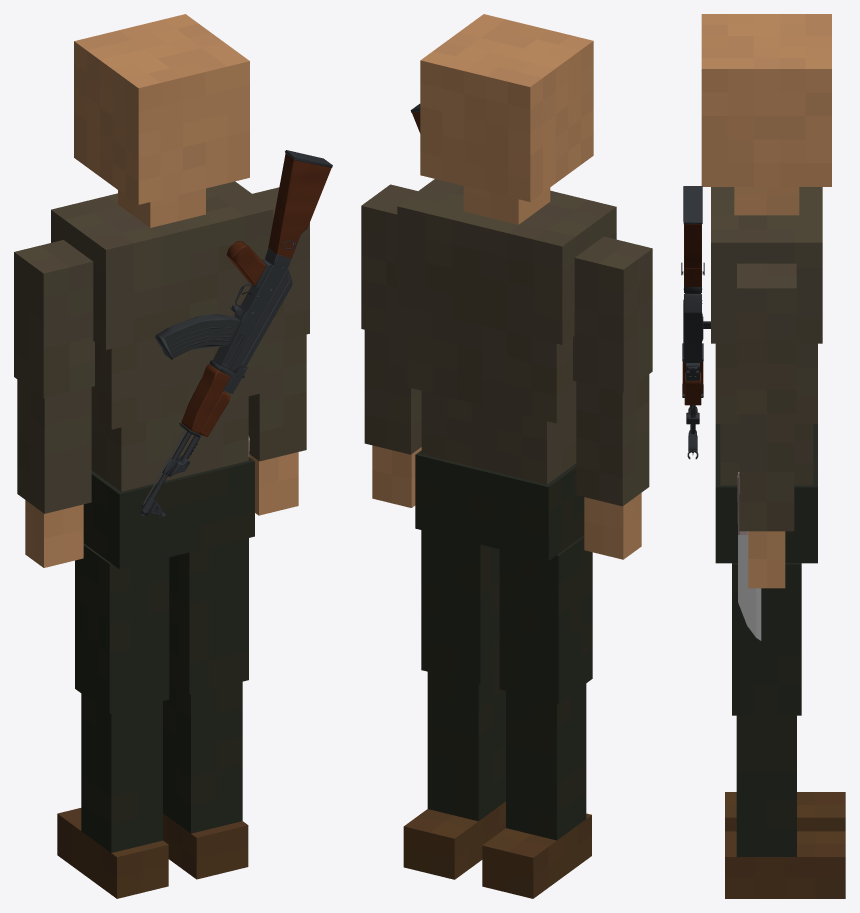
The model's file is npc_militant.glb.
3 renders of one model, left to right at view 1: azimuth 30°, elevation 25°; view 2: azimuth 150°, elevation 25°; view 3: azimuth 270°, elevation 25°, orthographic. The views are drawn at different scales.
Parts seen in each view (by area): view 1: head, chestU, thighR, pelvis, Body_Mesh, uarmR, shinR, thighL, shinL, chestL, farmR, waist (+8 smaller); view 2: head, chestU, thighR, chestL, pelvis, uarmR, shinR, thighL, shinL, waist, farmR, farmL (+6 smaller); view 3: head, chestU, uarmL, thighL, shinL, footL, farmL, pelvis, Body_Mesh, chestL, waist, footR (+3 smaller).
Part boxes in pixels (box(x1,y1,x2,y2)): head: box(74, 14, 249, 204); chestU: box(51, 181, 273, 349); thighR: box(75, 543, 169, 713); pelvis: box(83, 457, 254, 569); Body_Mesh: box(140, 150, 332, 515); uarmR: box(14, 240, 94, 398); shinR: box(81, 693, 162, 852); thighL: box(169, 538, 248, 694); shinL: box(163, 680, 242, 833); chestL: box(91, 337, 262, 429); farmR: box(17, 379, 91, 513); waist: box(91, 396, 248, 491); head: box(420, 14, 593, 201); chestU: box(397, 179, 616, 344); thighR: box(499, 535, 592, 703); chestL: box(407, 307, 576, 423); pelvis: box(415, 450, 584, 560); uarmR: box(573, 236, 652, 392); shinR: box(506, 683, 586, 840); thighL: box(421, 530, 499, 684); shinL: box(427, 670, 505, 821); waist: box(421, 391, 576, 484); farmR: box(576, 374, 649, 506); farmL: box(364, 330, 421, 454); head: box(701, 14, 831, 186); chestU: box(711, 187, 822, 343); uarmL: box(737, 263, 796, 414); thighL: box(732, 563, 801, 715); shinL: box(736, 715, 796, 856); footL: box(725, 831, 845, 898); farmL: box(739, 414, 794, 531); pelvis: box(715, 424, 817, 563); Body_Mesh: box(681, 186, 704, 434); chestL: box(715, 343, 817, 423); waist: box(720, 424, 813, 485); footR: box(725, 792, 845, 831).
Bounding box in the file's own units: 0.669 × 1.96 × 0.3543.
27 materials, 1 textured.
